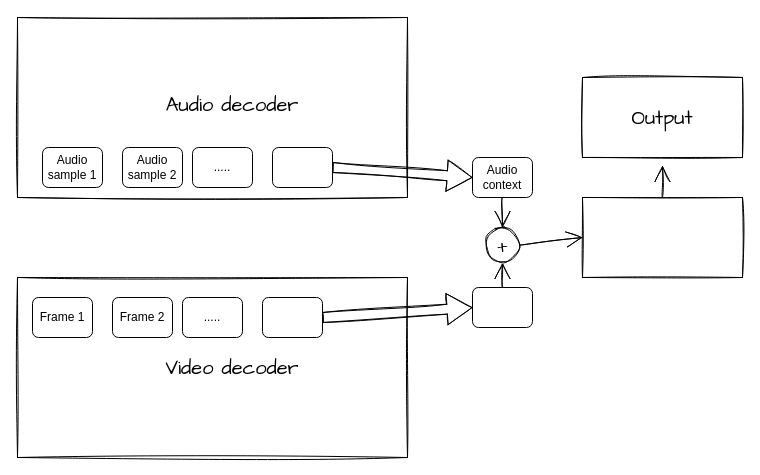
The diagram is 760 pixels wide and 475 high, and some of its shapes have lost their labels. The centre of each missing label's shape, as x and y in pixels:
"Audio sample n" belongs at (302,167).
"Decoder" belongs at (662,237).
"Frame n" belongs at (292,317).
"Video context" belongs at (502,307).
